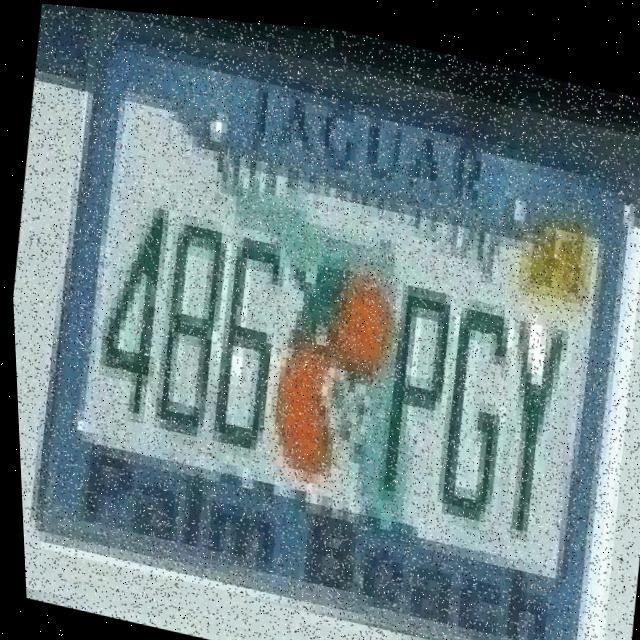LicensePlate: (16, 4, 640, 640)
